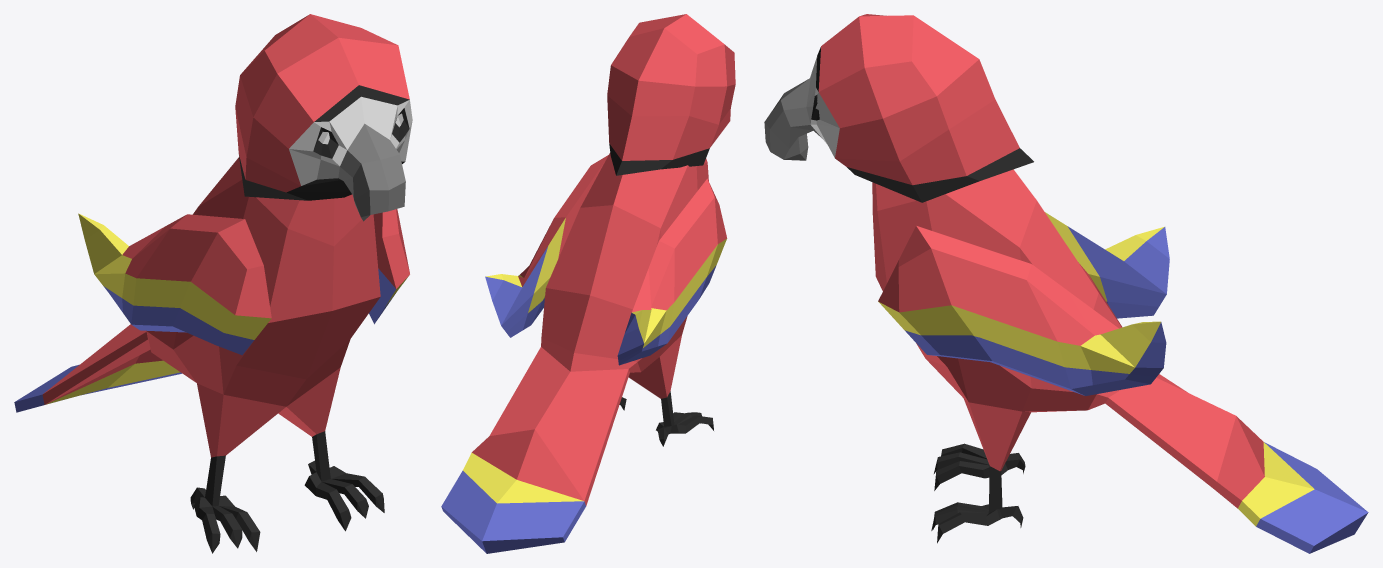
3 views of the same model, side by side, from view 1: azimuth 30°, elevation 25°; view 2: azimuth 150°, elevation 25°; view 3: azimuth 270°, elevation 25° (orthographic). The views are drawn at different scales.
Visible parts, largest first — view 1: cuerpo, cabeza, alas; view 2: cuerpo, cabeza, alas; view 3: cuerpo, alas, cabeza.
Part boxes in pixels (bbox=[...]): cuerpo: bbox=[14, 157, 384, 553]; cabeza: bbox=[235, 14, 412, 221]; alas: bbox=[78, 209, 409, 355]; cuerpo: bbox=[441, 152, 713, 553]; cabeza: bbox=[607, 14, 735, 175]; alas: bbox=[485, 155, 727, 365]; cuerpo: bbox=[872, 169, 1368, 553]; alas: bbox=[878, 212, 1169, 395]; cabeza: bbox=[764, 14, 1033, 202].
Size of the model in its own units: 11.57 by 29.1 by 30.91.
Materials: 3 (3 with a texture image).
